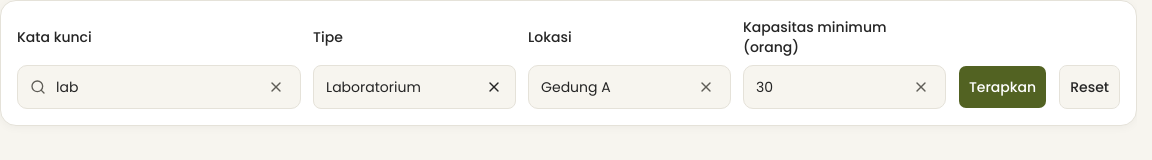
Scenario: FacilityFilterForm › mengosongkan tiap field lewat tombol silang
This screenshot has width=1152, height=160.
Click the button named "Hapus kata kunci": [276, 87] box [264,75,288,99]
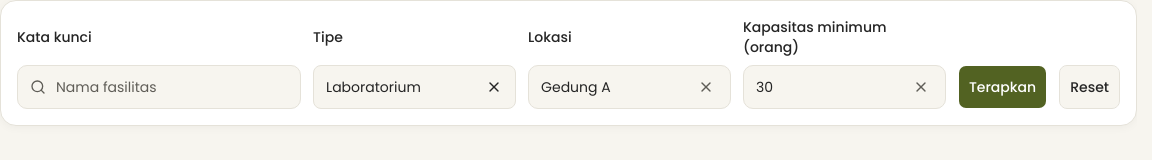
Click the button named "Hapus pilihan tipe": [494, 87] box [474,67,514,107]
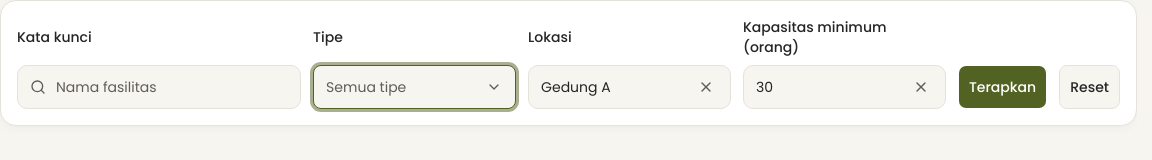
Click the button named "Hapus lokasi": [706, 87] box [694,75,718,99]
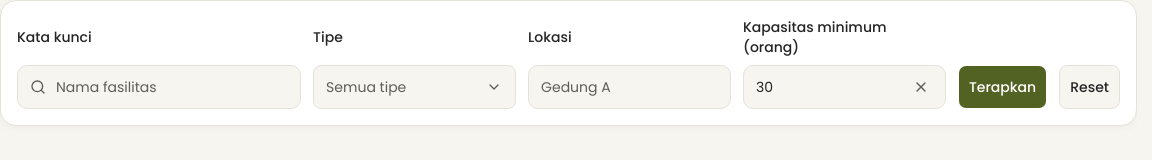
Click the button named "Hapus nilai kapasitas": [921, 87] box [909,75,933,99]
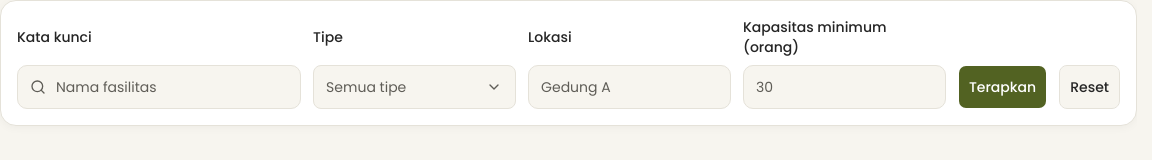
Expected: the search field named "search" is empty, [56,77,288,97]
Expected: the field named "location" is empty, [541,77,718,97]
Expected: the number field named "minCapacity" is not empty, [756,77,933,97]
